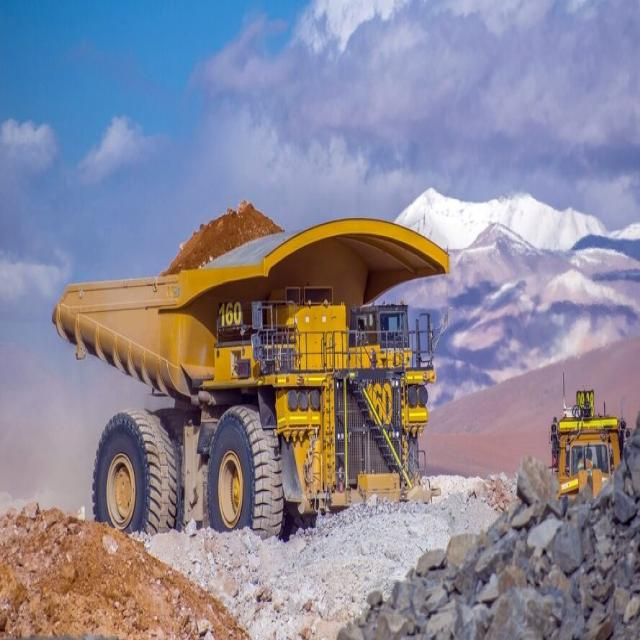dump_truck: (55, 172, 449, 532)
